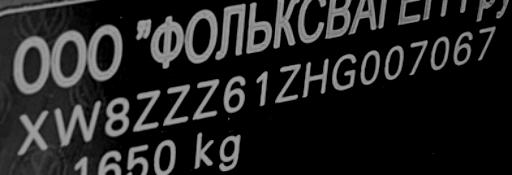letter: (56, 98, 104, 148), (128, 88, 162, 137), (16, 105, 48, 157), (190, 77, 224, 122), (160, 82, 194, 127), (274, 59, 304, 104), (300, 56, 332, 95), (382, 40, 410, 84), (472, 23, 502, 63), (222, 73, 250, 114), (404, 38, 432, 75), (332, 52, 358, 91), (104, 94, 128, 136), (453, 28, 477, 65), (359, 48, 383, 84), (430, 35, 452, 72), (252, 68, 274, 105)
